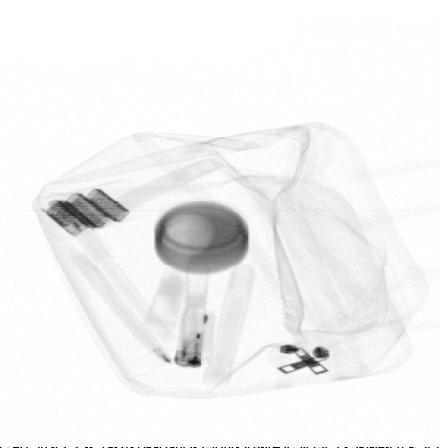Lighter: (173, 312, 207, 369)
